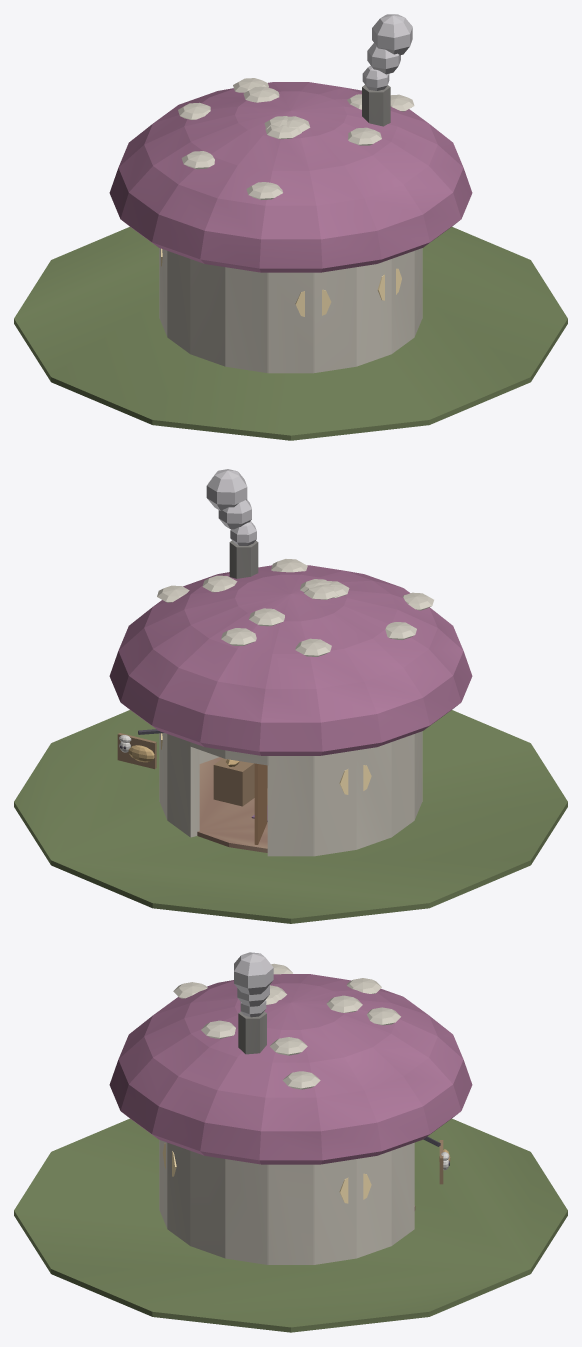
File: MushroomBakery.fbx
3 renders of one model, top to bottom at view 1: azimuth 30°, elevation 25°; view 2: azimuth 150°, elevation 25°; view 3: azimuth 270°, elevation 25°, orthographic.
Parts seen in each view (by area): view 1: Bld_MushroomBakery, Bld_MushroomBakery_Roof; view 2: Bld_MushroomBakery, Bld_MushroomBakery_Roof; view 3: Bld_MushroomBakery, Bld_MushroomBakery_Roof.
Boxes of the visible parts, x1,y1,x2,y2 form: Bld_MushroomBakery: (14,227,567,440); Bld_MushroomBakery_Roof: (109,14,472,272); Bld_MushroomBakery: (14,710,567,923); Bld_MushroomBakery_Roof: (109,469,472,755); Bld_MushroomBakery: (14,1118,567,1332); Bld_MushroomBakery_Roof: (109,952,472,1164).
Bounding box in the file's own units: 11.6 × 6.98 × 11.6.
